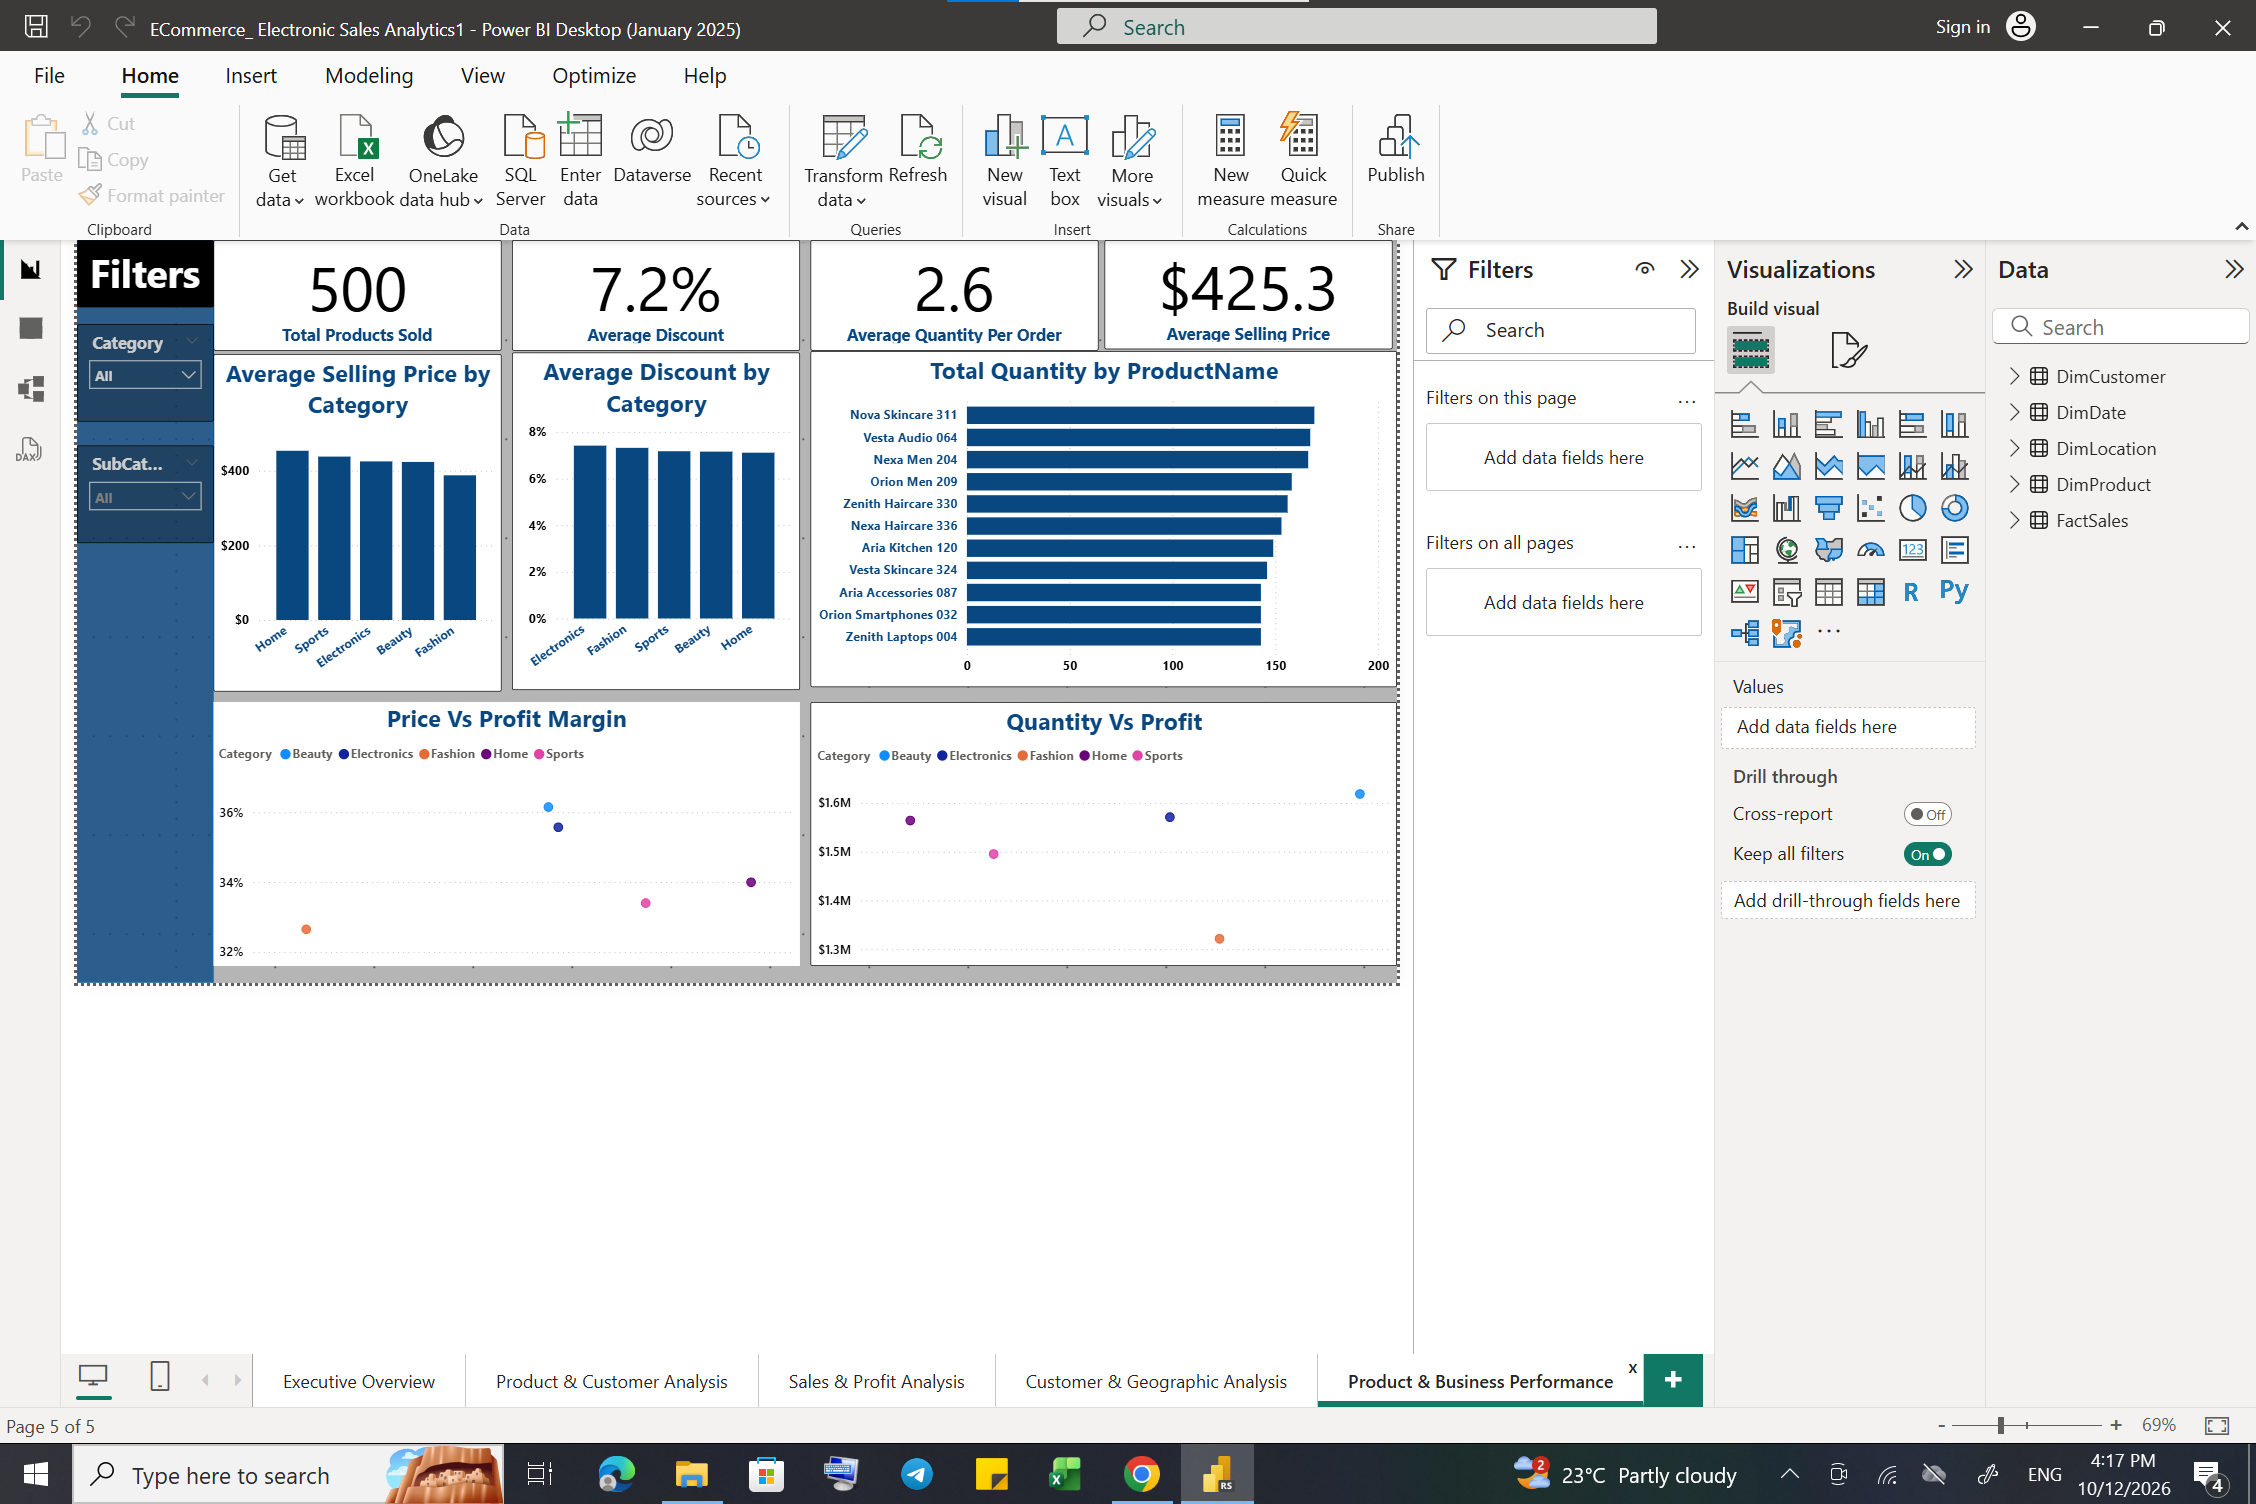

This screenshot's page, from the dashboard's own definition file:
{"tool":"powerbi","page":{"name":"Product & Business Performance","canvas":[1280,720],"ordinal":4},"visuals":[{"type":"shape","box":[0,0,132.4,720],"z":0},{"type":"card","fields":{"Values":["FactSales.Total Products Sold"]},"box":[132.4,0,279.3,107.6],"z":1000},{"type":"card","fields":{"Values":["FactSales.Average Quantity Per Order"]},"box":[711.3,0,279.3,107.6],"z":2000},{"type":"card","fields":{"Values":["FactSales.Average Selling Price"]},"box":[996.4,0,279.3,106.2],"z":3000},{"type":"card","fields":{"Values":["FactSales.Average Discount"]},"box":[421.8,0,279.3,107.6],"z":4000},{"type":"clusteredColumnChart","fields":{"Y":["FactSales.Average Selling Price"],"Category":["DimProduct.Category"]},"box":[132.4,110.5,279.3,327.3],"z":5000},{"type":"clusteredColumnChart","fields":{"Category":["DimProduct.Category"],"Y":["FactSales.Average Discount"]},"box":[421.8,109.1,279.3,327.3],"z":6000},{"type":"scatterChart","title":"Quantity Vs Profit","fields":{"X":["FactSales.Total Quantity"],"Y":["FactSales.Total Profit"],"Series":["DimProduct.Category"]},"box":[711.3,448,568.7,256],"z":7000},{"type":"scatterChart","title":"Price Vs Profit Margin","fields":{"Y":["FactSales.Profit Margin %"],"Series":["DimProduct.Category"],"X":["FactSales.Average Selling Price"]},"box":[132.4,448,568.7,256],"z":8000},{"type":"clusteredBarChart","fields":{"Category":["DimProduct.ProductName"],"Y":["FactSales.Total Quantity"]},"box":[711.3,107.6,568.7,325.8],"z":9000},{"type":"slicer","fields":{"Values":["DimProduct.Category"]},"box":[0,81.5,132.4,94.5],"z":10000},{"type":"slicer","fields":{"Values":["DimProduct.SubCategory"]},"box":[0,199.3,132.4,94.5],"z":11000},{"type":"textbox","box":[0,0,132.4,65.5],"z":12000}]}

Visuals, with their boxes on the page's 1280x720 design canvas (x1, y1, x2, y2). These are canvas units, not pixel positions in the 2256x1504 screenshot, which may show the page scaled, cropped or inside an application window:
shape: crop(0, 0, 132, 720)
card - FactSales.Total Products Sold: crop(132, 0, 412, 108)
card - FactSales.Average Quantity Per Order: crop(711, 0, 991, 108)
card - FactSales.Average Selling Price: crop(996, 0, 1276, 106)
card - FactSales.Average Discount: crop(422, 0, 701, 108)
clusteredColumnChart - FactSales.Average Selling Price x DimProduct.Category: crop(132, 110, 412, 438)
clusteredColumnChart - DimProduct.Category x FactSales.Average Discount: crop(422, 109, 701, 436)
"Quantity Vs Profit" scatterChart: crop(711, 448, 1280, 704)
"Price Vs Profit Margin" scatterChart: crop(132, 448, 701, 704)
clusteredBarChart - DimProduct.ProductName x FactSales.Total Quantity: crop(711, 108, 1280, 433)
slicer - DimProduct.Category: crop(0, 82, 132, 176)
slicer - DimProduct.SubCategory: crop(0, 199, 132, 294)
textbox: crop(0, 0, 132, 66)
